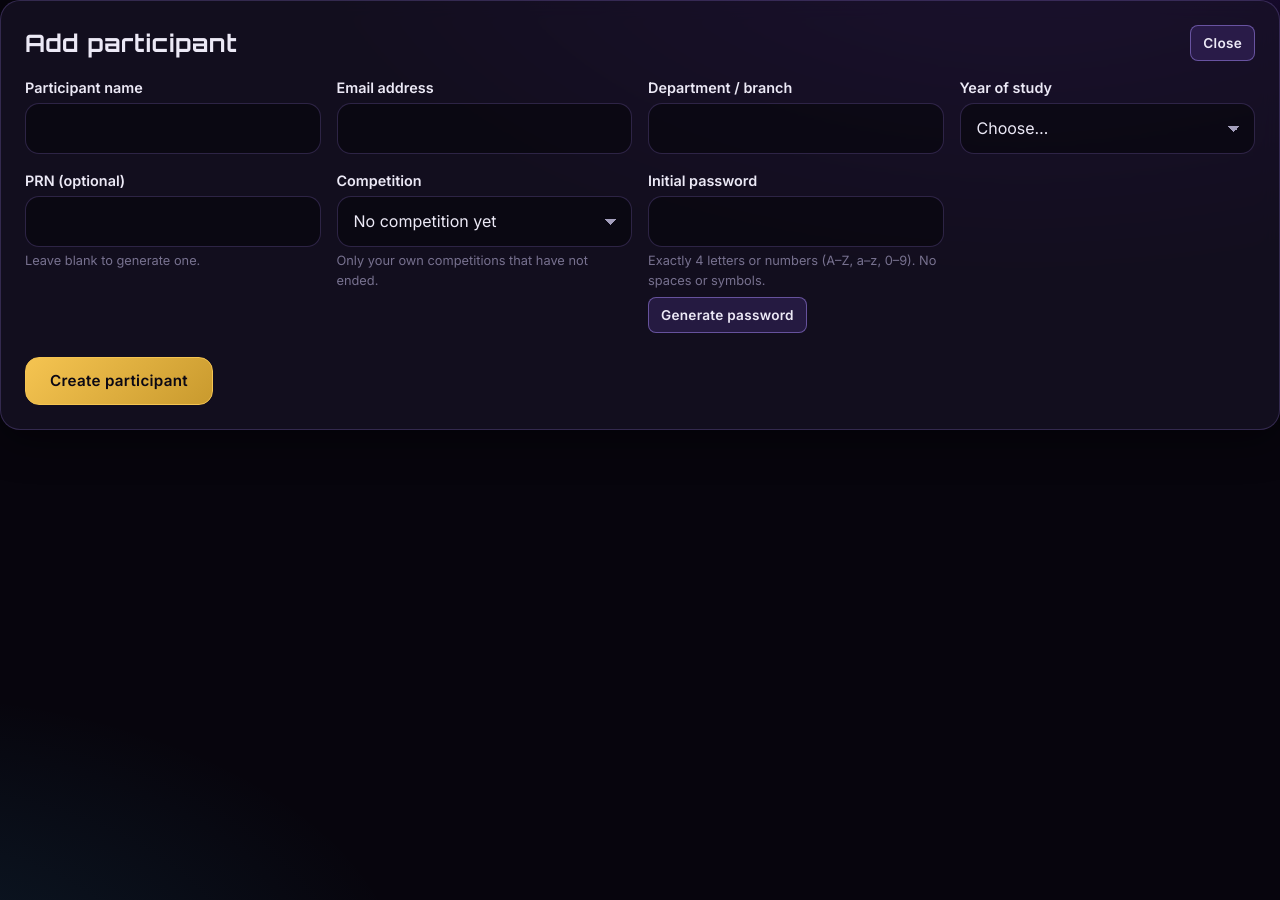
Test: AddParticipantForm › shows a duplicate-email error on the email field
The width and height of the screenshot is (1280, 900).
Type "Riya Mehta" into the field labelled "Participant name". click: (173, 129)
box: [25,103,320,154]
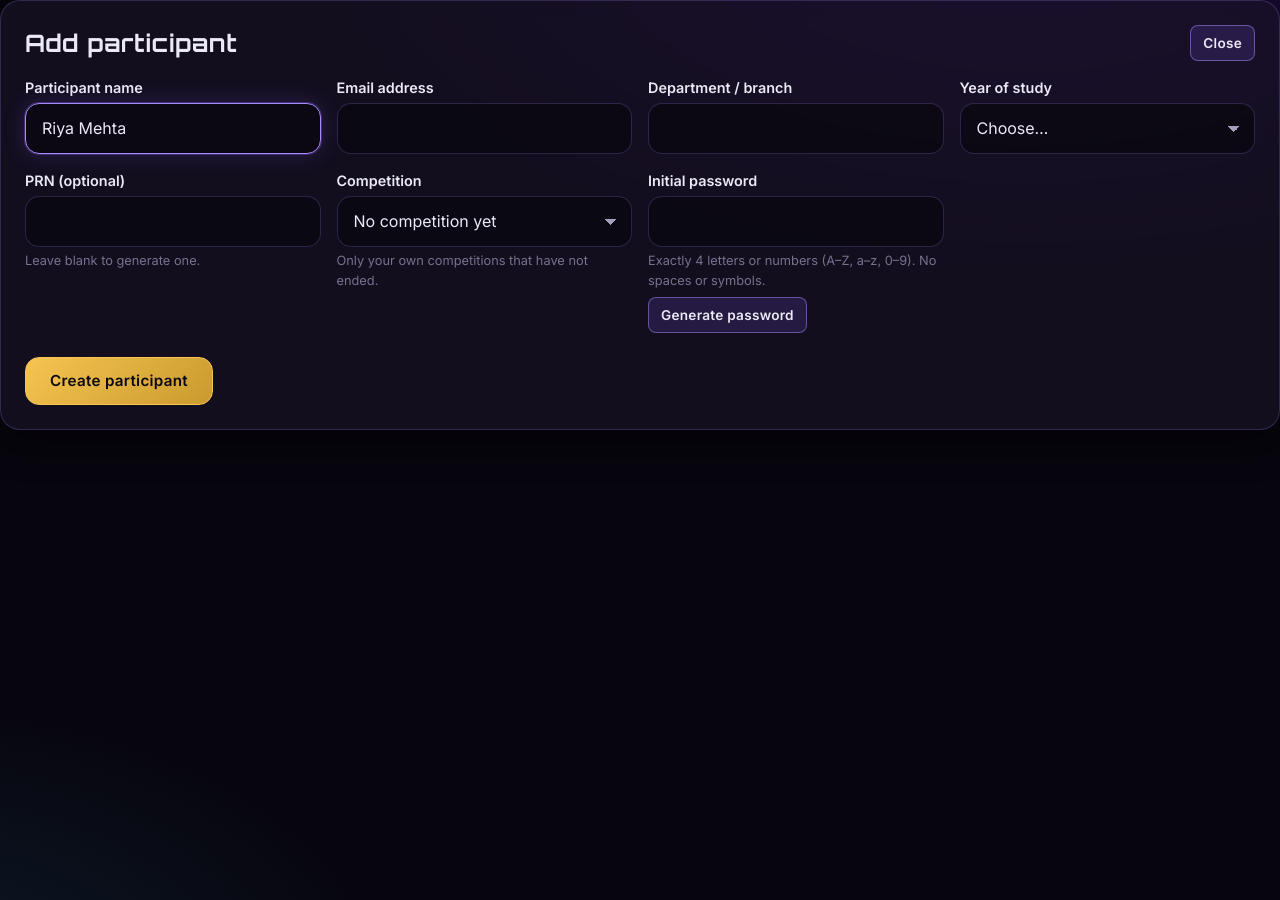
Type "riya.mehta03@gmail.com" into the field labelled "Email address". click: (484, 129)
box: [336,103,632,154]
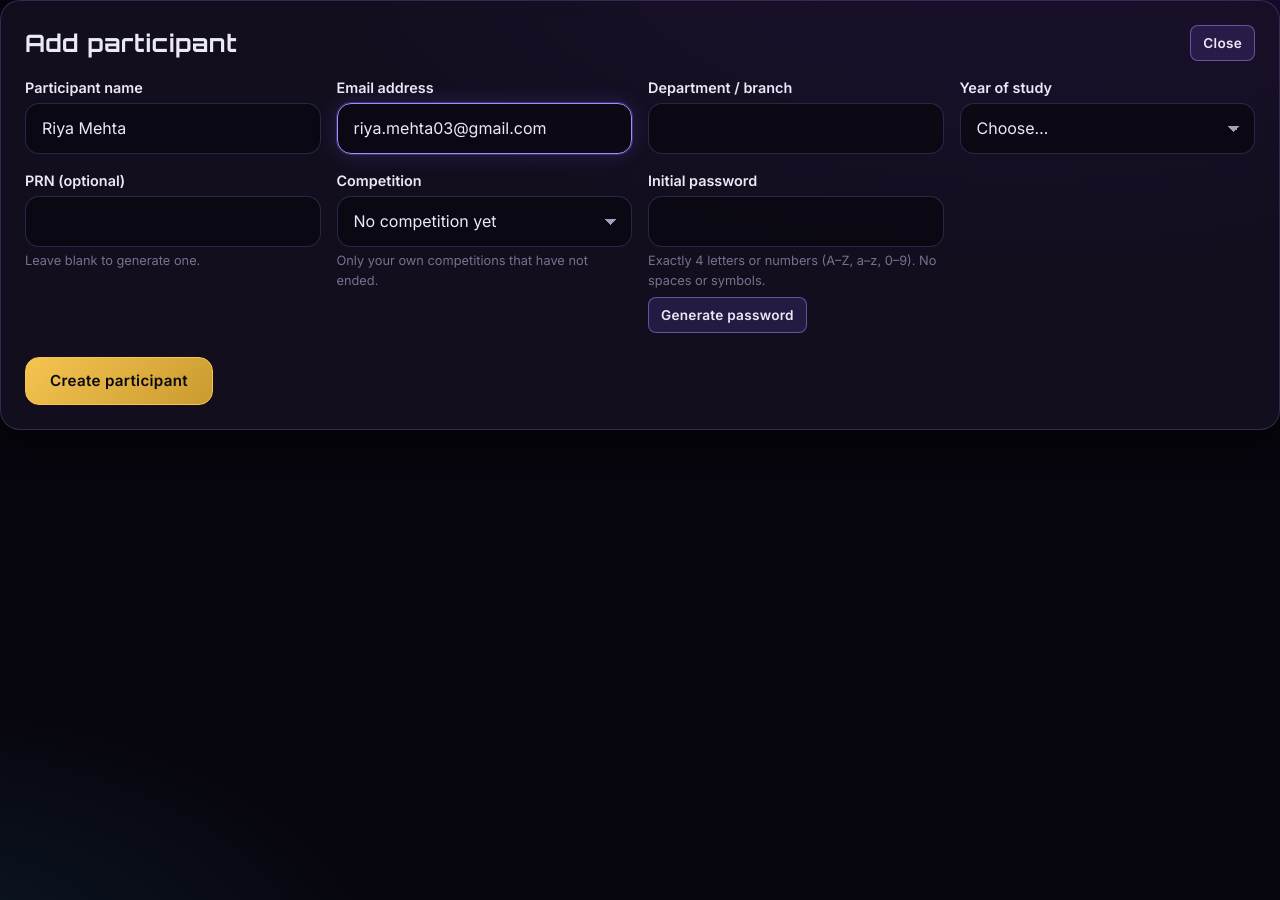
Type "Computer Engineering" into the field labelled "Department / branch". click: (796, 129)
box: [648,103,944,154]
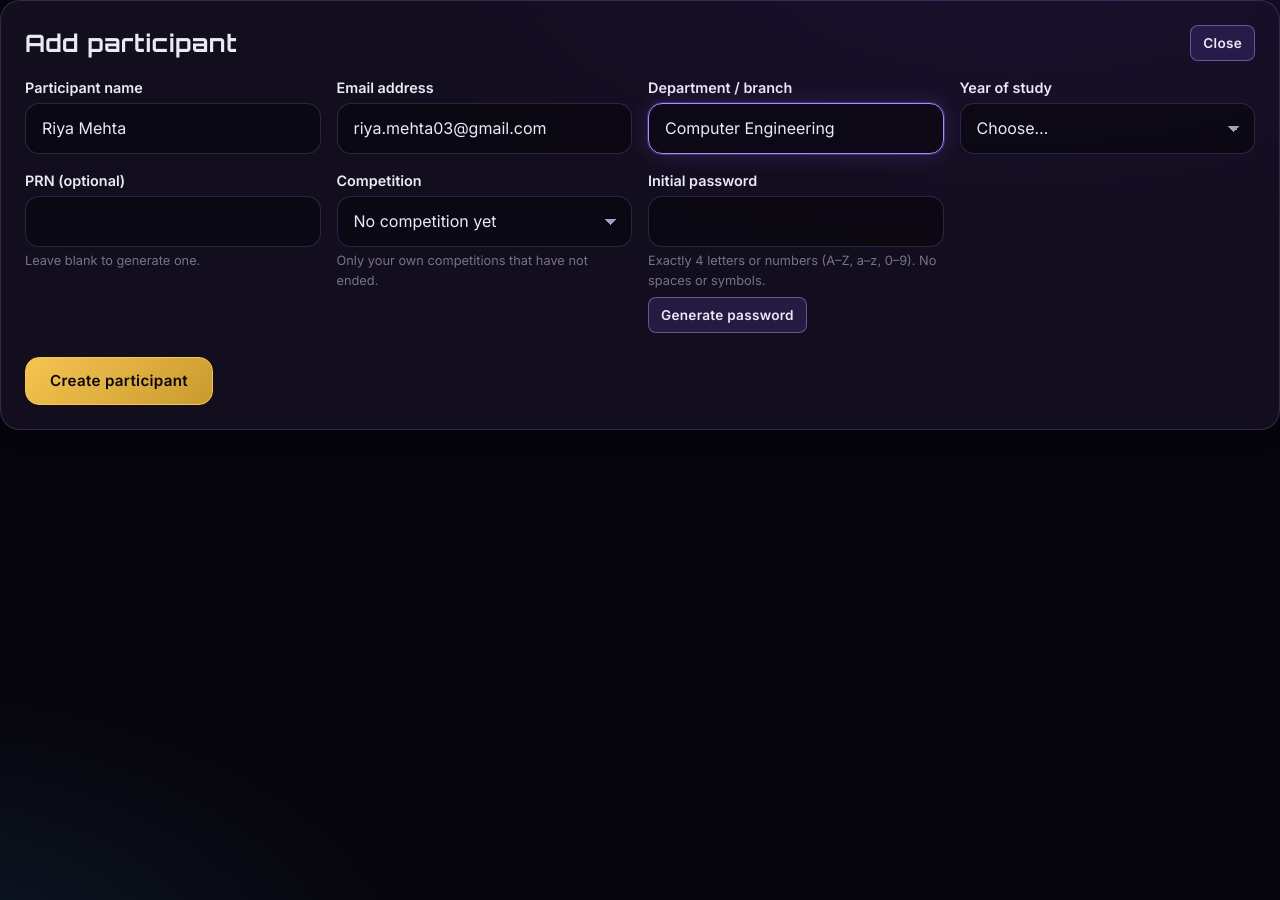
Select "FE" in the dropdown labelled "Year of study". click: (1107, 129)
box: [960,103,1255,154]
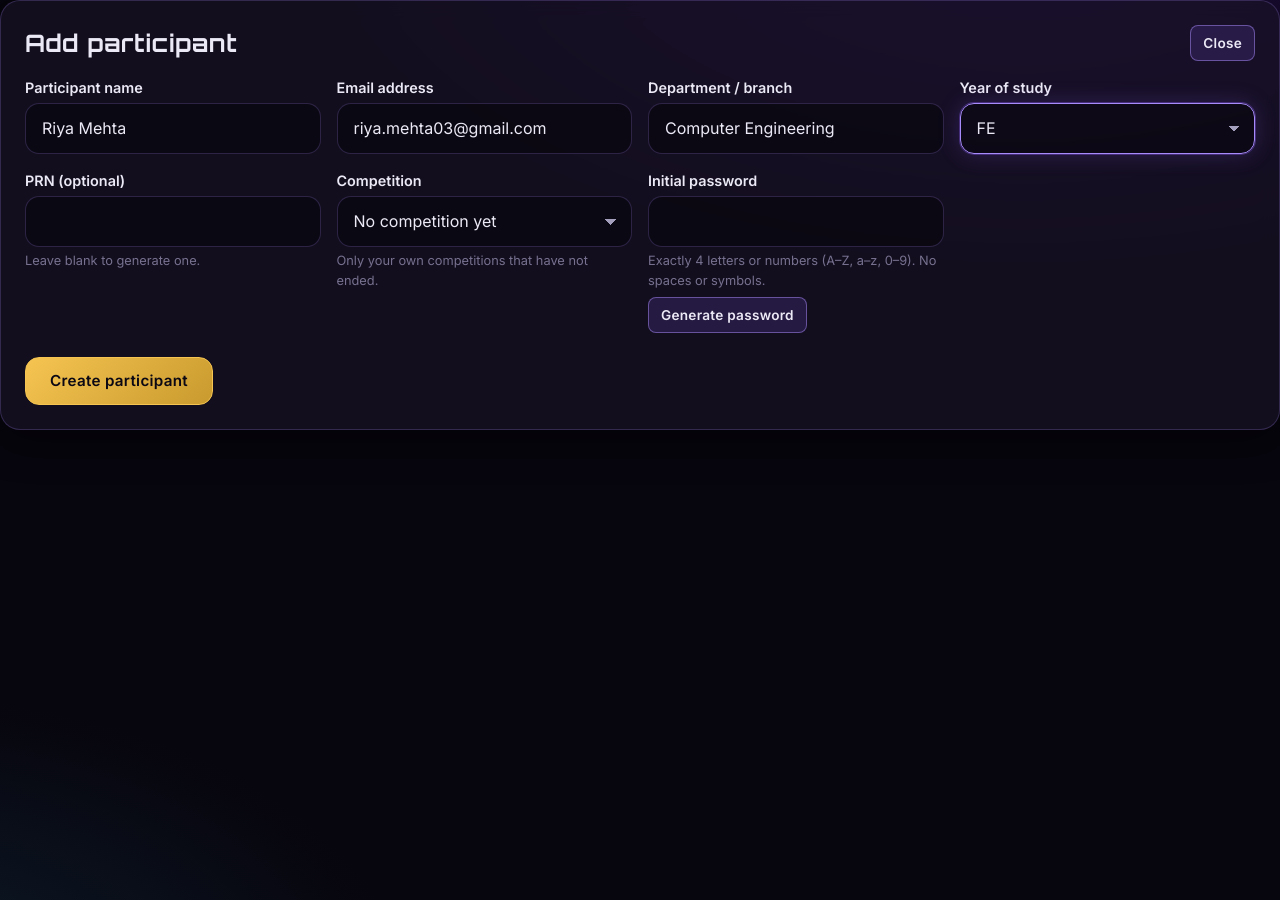
Type "Ab12" into the field labelled "Initial password". click: (796, 222)
box: [648,196,944,247]
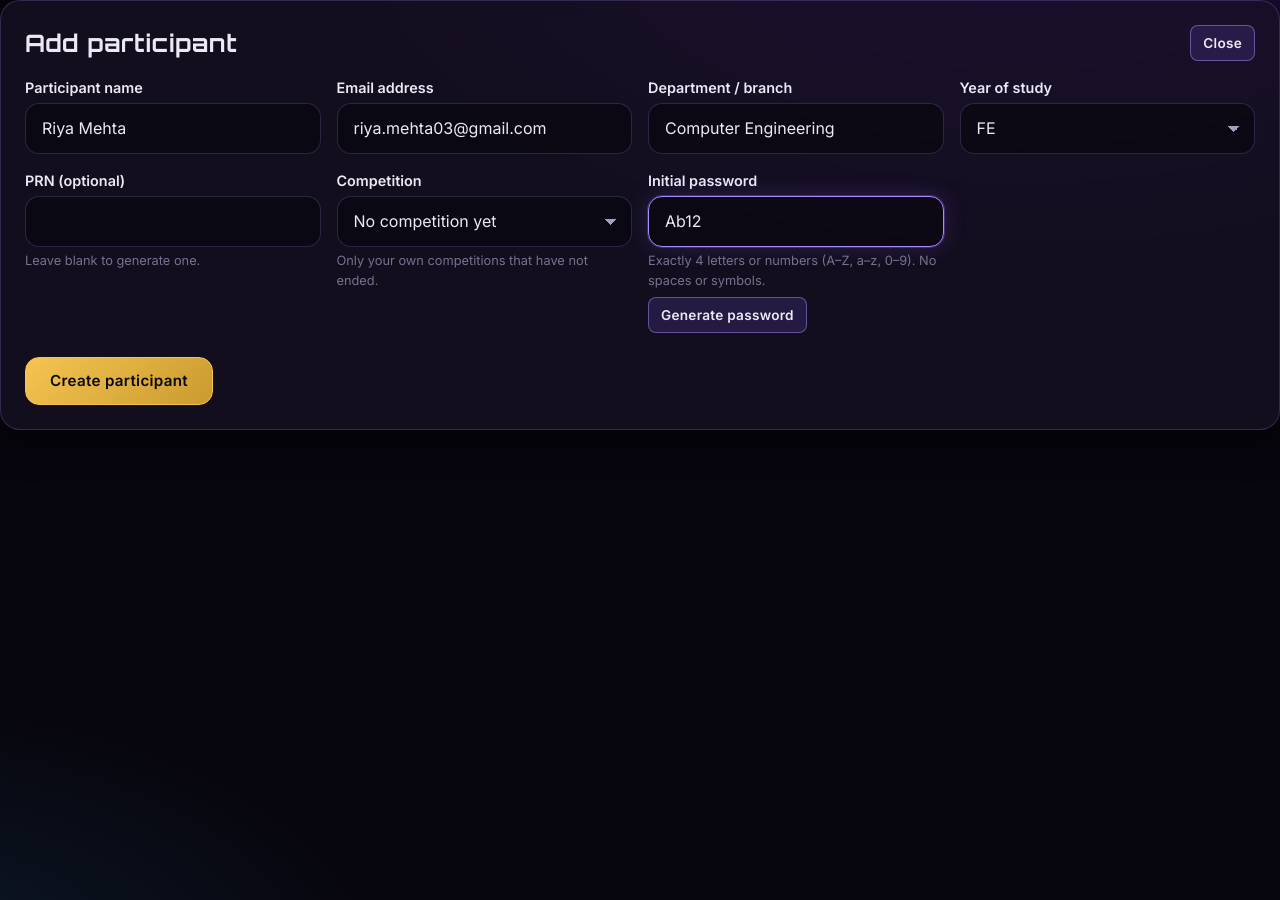
Click the button "Create participant". click: (119, 381)
box: [25,357,213,405]
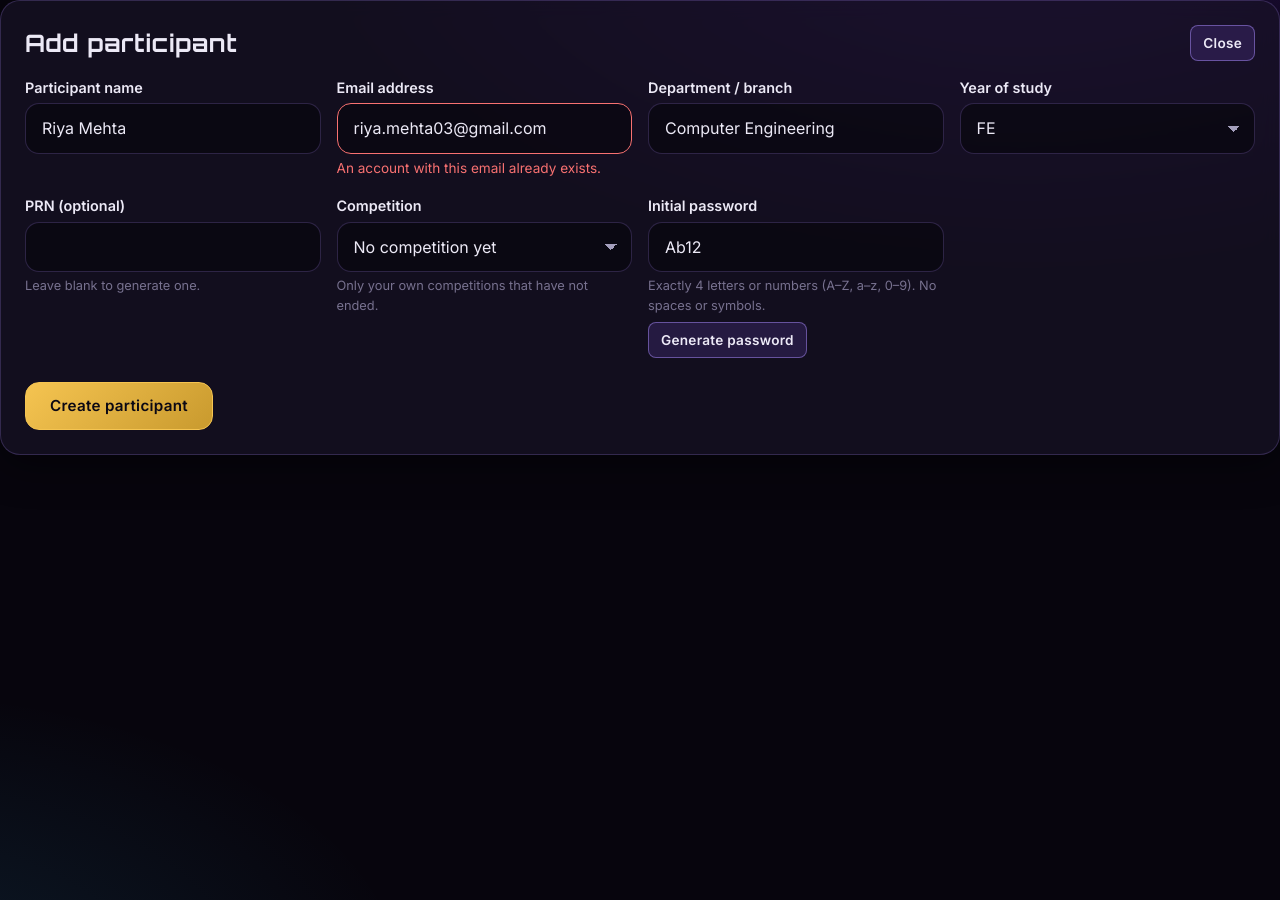
Expected: the text "An account with this email already exists." is shown, [336,158,632,179]
